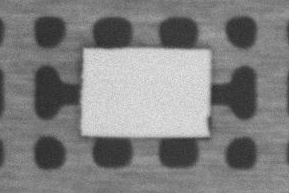DIE_BROKEN: (207, 114, 214, 133)
